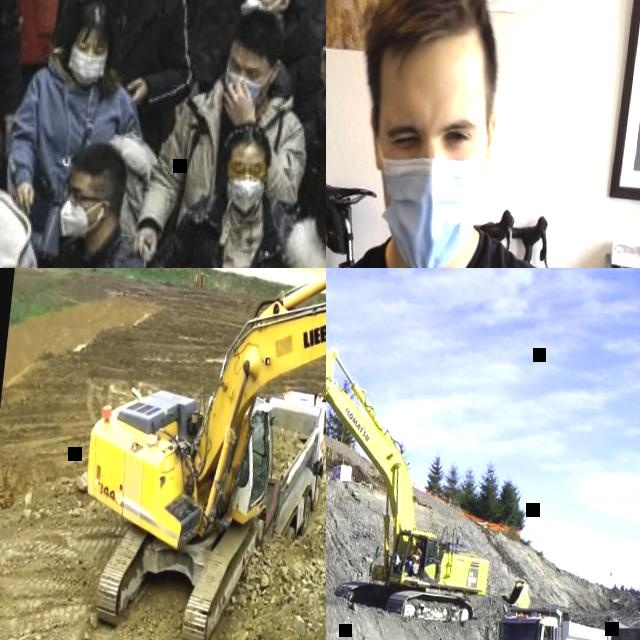Mask: (359, 130, 489, 268), (219, 68, 267, 109), (65, 43, 108, 87), (225, 174, 267, 216), (57, 199, 95, 245), (240, 0, 285, 17)
NO-Hardhat: (360, 0, 492, 60), (228, 8, 288, 59), (69, 137, 131, 184), (223, 116, 273, 159), (68, 0, 117, 29)
NO-Safety Vest: (67, 0, 177, 122), (272, 9, 312, 102), (0, 0, 70, 38), (305, 110, 326, 191)
Person: (326, 0, 640, 268), (141, 0, 319, 268), (0, 0, 159, 262), (141, 107, 301, 268), (0, 125, 174, 268), (48, 0, 208, 150), (190, 0, 326, 143), (0, 109, 70, 268), (0, 0, 75, 91), (294, 26, 326, 237), (204, 0, 326, 48), (0, 0, 41, 128), (142, 0, 215, 25), (404, 541, 423, 575), (239, 459, 248, 484)
Safety Vest: (410, 546, 422, 561)
machinery: (68, 268, 326, 640), (326, 335, 508, 629), (254, 382, 326, 543), (464, 598, 617, 640), (635, 583, 640, 600)
